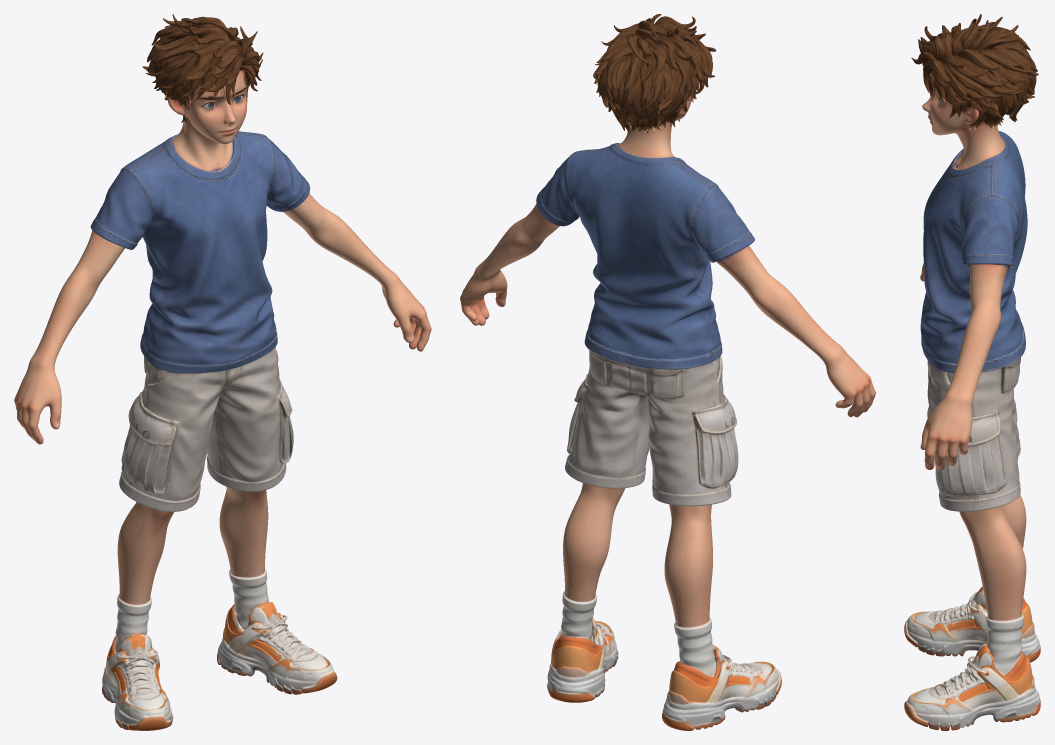
File: character.glb
3 renders of one model, left to right at view 1: azimuth 30°, elevation 25°; view 2: azimuth 150°, elevation 25°; view 3: azimuth 270°, elevation 25°, orthographic. The views are drawn at different scales.
Parts seen in each view (by area): view 1: teen-character; view 2: teen-character; view 3: teen-character.
Boxes of the visible parts, x1,y1,x2,y2 form: teen-character: [14, 14, 431, 730]; teen-character: [460, 14, 875, 730]; teen-character: [904, 14, 1040, 730].
Bounding box in the file's own units: 1.03 × 1.65 × 0.3104.
Materials: 1 (1 with a texture image).
